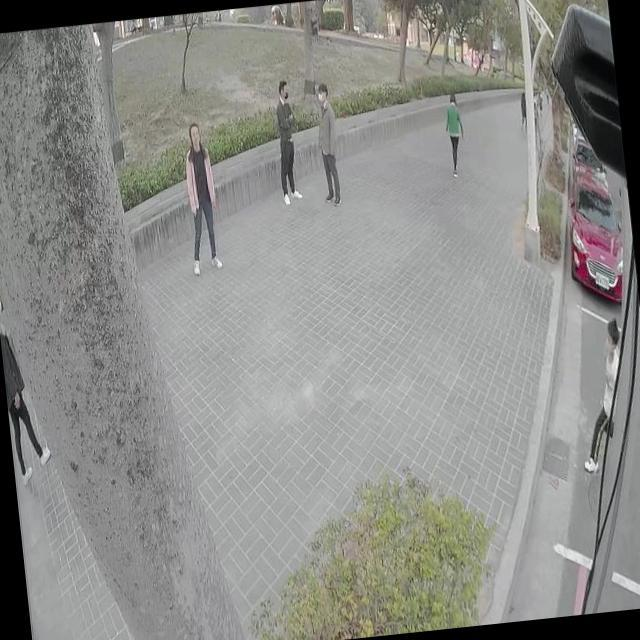person: (568, 316, 633, 473), (0, 295, 51, 479), (180, 118, 223, 271), (270, 78, 302, 205), (310, 80, 343, 202), (440, 90, 466, 176), (516, 89, 528, 128)
